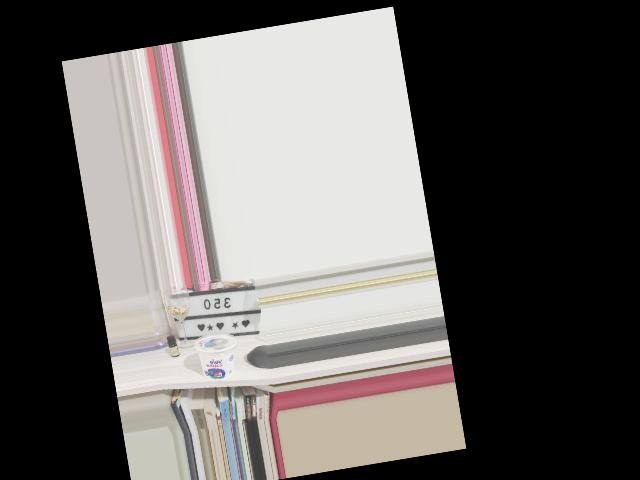cotage: (195, 329, 239, 384)
